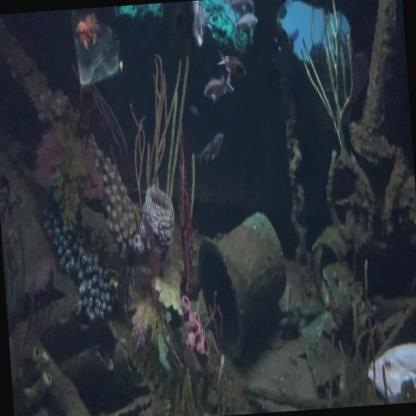fish: (364, 338, 416, 406), (202, 71, 236, 105), (199, 130, 227, 168), (216, 50, 247, 82), (192, 135, 218, 169), (233, 11, 260, 34), (229, 0, 256, 16), (186, 100, 201, 120)
